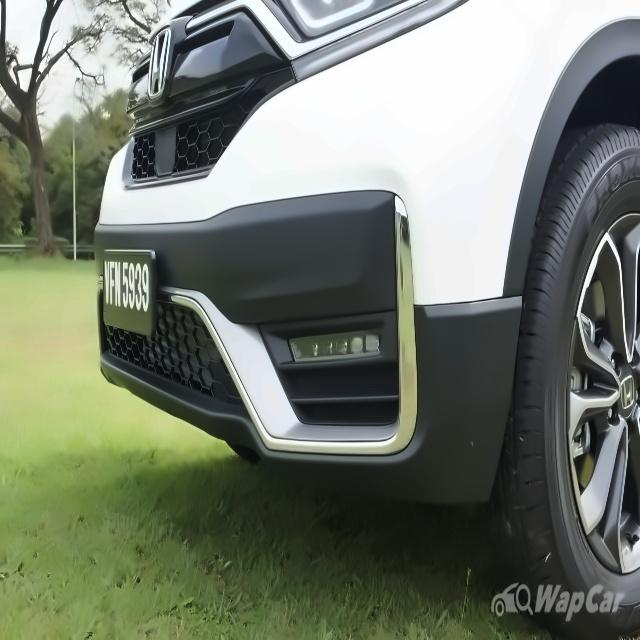Front bumper: (78, 185, 527, 523)
